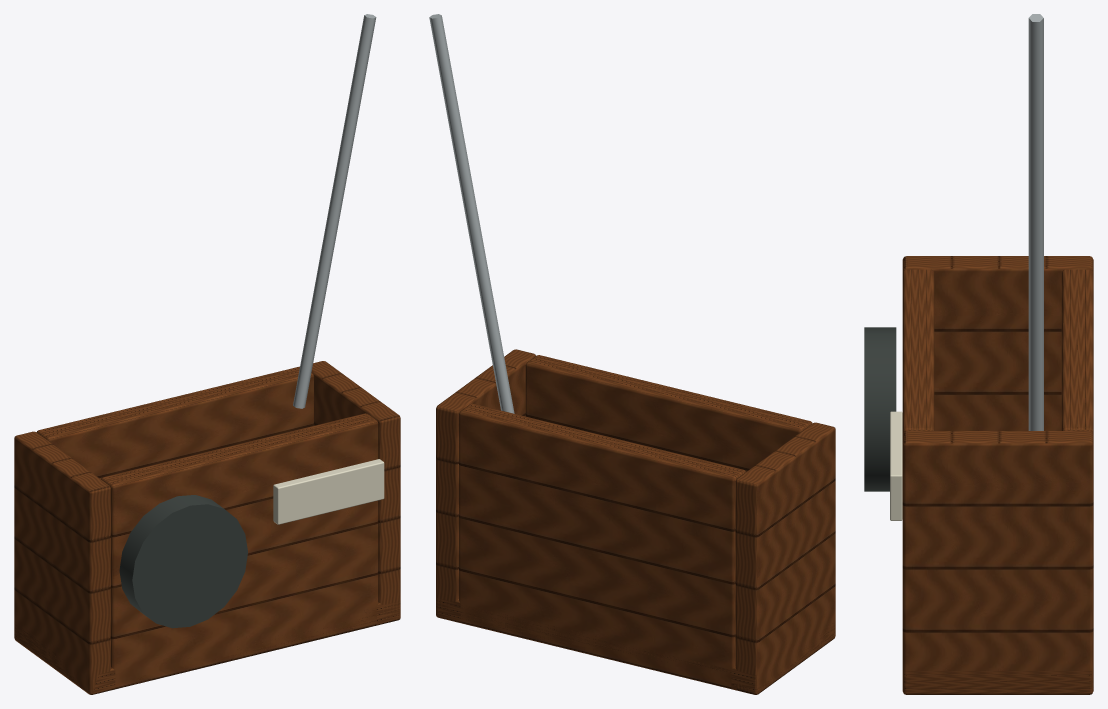
The model's file is salvage-and-repair-workshop-opened-radio-ec33a8bb__25477.glb.
3 views of the same model, side by side, from view 1: azimuth 30°, elevation 25°; view 2: azimuth 150°, elevation 25°; view 3: azimuth 270°, elevation 25° (orthographic). The views are drawn at different scales.
Parts seen in each view (by area): view 1: opened-radio; view 2: opened-radio; view 3: opened-radio.
Part boxes in pixels (left/top/right/bottom): opened-radio: left=14, top=14, right=400, bottom=694; opened-radio: left=429, top=14, right=835, bottom=694; opened-radio: left=864, top=14, right=1093, bottom=694.
Bounding box in the file's own units: 0.3801 × 0.601 × 0.18.
Materials: 4 (1 with a texture image).
